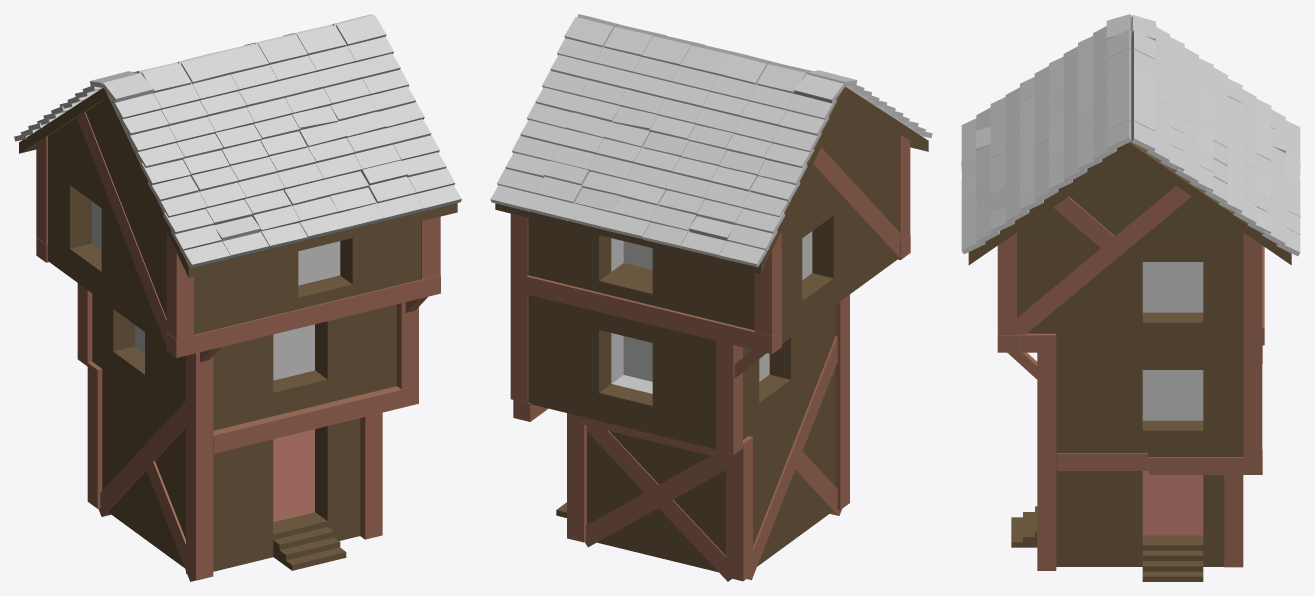
The model's file is house.fbx.
3 views of the same model, side by side, from view 1: azimuth 30°, elevation 25°; view 2: azimuth 150°, elevation 25°; view 3: azimuth 270°, elevation 25° (orthographic). The views are drawn at different scales.
Parts seen in each view (by area): view 1: House, Shingles, WoodPanels; view 2: House, Shingles, WoodPanels; view 3: House, Shingles, WoodPanels.
Part boxes in pixels (x1,y1,x2,y2): House: (19, 88, 457, 571); Shingles: (14, 14, 461, 267); WoodPanels: (36, 112, 440, 581); House: (495, 87, 928, 572); Shingles: (490, 14, 932, 267); WoodPanels: (510, 134, 910, 581); House: (968, 36, 1291, 581); Shingles: (961, 14, 1300, 256); WoodPanels: (997, 186, 1264, 570).
Size of the model in its own units: 1257 by 2130 by 1427.
